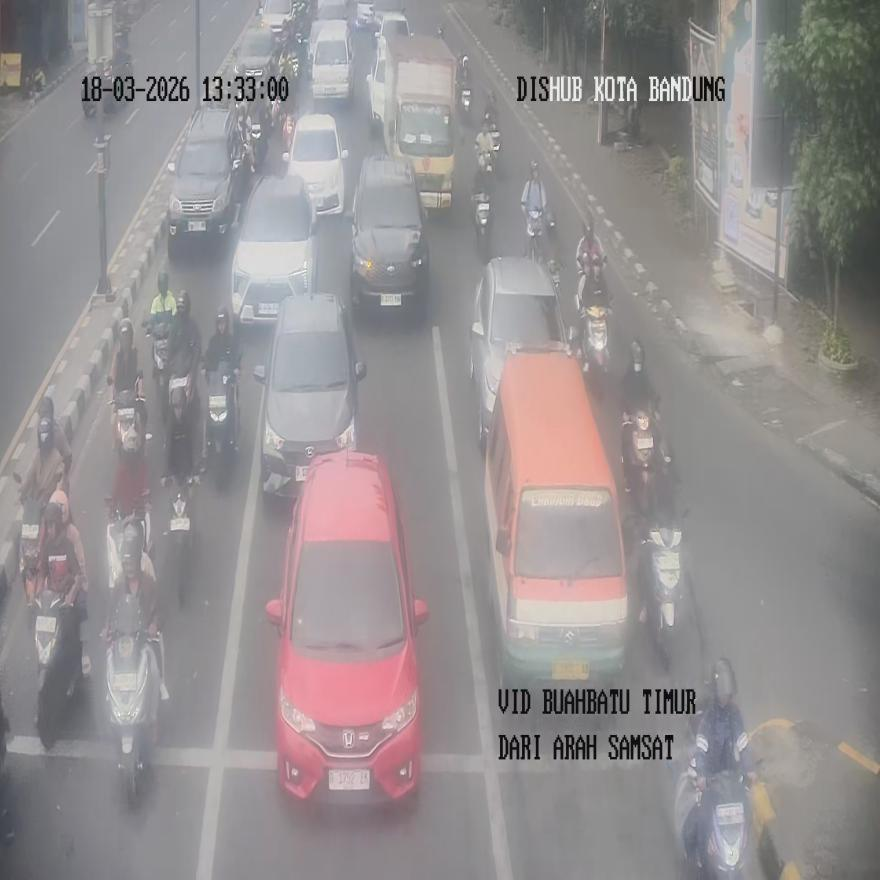Motor: (265, 449, 428, 804), (484, 350, 628, 686), (253, 293, 365, 495), (469, 256, 569, 447), (231, 173, 318, 326), (350, 153, 429, 316), (166, 104, 245, 254), (283, 112, 348, 215)
Truk: (102, 599, 164, 808), (675, 746, 754, 879), (33, 588, 83, 750), (638, 514, 684, 670), (621, 403, 663, 520), (106, 491, 152, 594), (202, 350, 241, 469), (163, 475, 195, 608), (165, 370, 198, 485), (12, 470, 43, 588), (108, 371, 146, 458), (578, 303, 610, 398), (145, 313, 170, 428), (471, 188, 492, 259), (524, 204, 547, 262), (475, 124, 500, 173), (248, 113, 268, 170), (458, 54, 472, 115)
